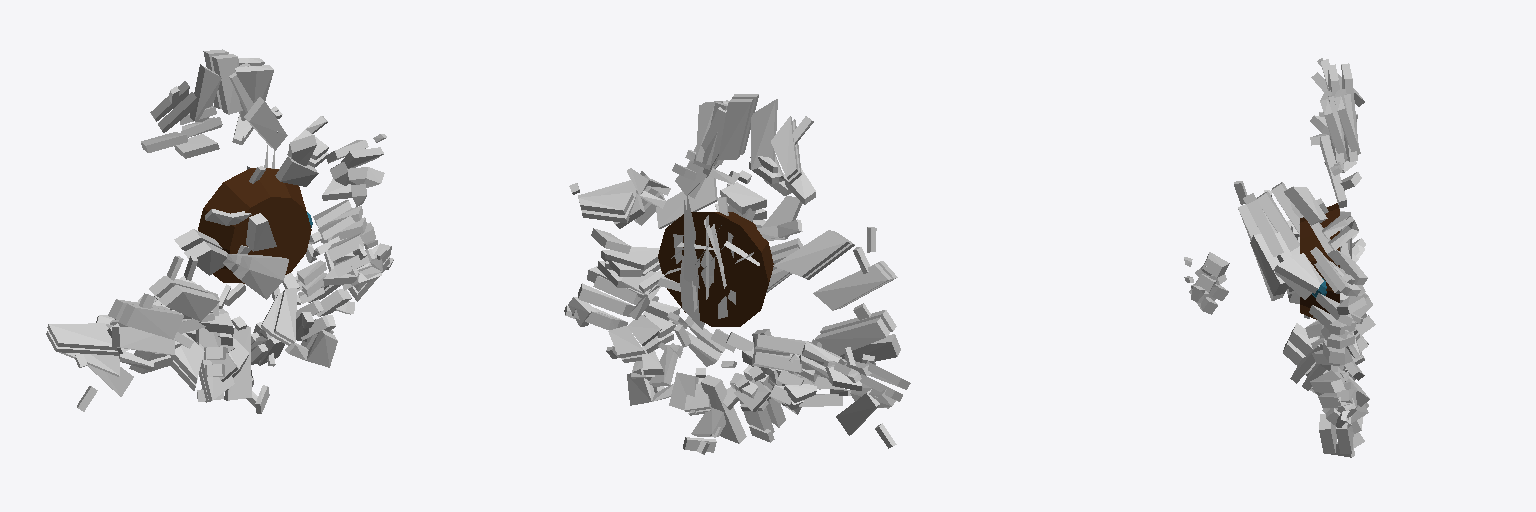
3 views of the same model, side by side, from view 1: azimuth 30°, elevation 25°; view 2: azimuth 150°, elevation 25°; view 3: azimuth 270°, elevation 25° (orthographic).
Visible parts, largest first — view 1: Cone_Cone_cover, Cone.001_Cone.001_cover, Cylinder_Cylinder_Material.001; view 2: Cone_Cone_cover, Cone.001_Cone.001_cover, Cylinder_Cylinder_Material.001, Plane_Plane_Material.003; view 3: Cone_Cone_cover, Cone.001_Cone.001_cover, Cylinder_Cylinder_Material.001.
Boxes of the visible parts, x1=… form: Cone_Cone_cover: x1=107, y1=135, x2=393, y2=413; Cone.001_Cone.001_cover: x1=46, y1=49, x2=386, y2=411; Cylinder_Cylinder_Material.001: x1=198, y1=168, x2=311, y2=283; Cone_Cone_cover: x1=564, y1=145, x2=900, y2=454; Cone.001_Cone.001_cover: x1=569, y1=94, x2=910, y2=448; Cylinder_Cylinder_Material.001: x1=658, y1=212, x2=773, y2=326; Plane_Plane_Material.003: x1=665, y1=195, x2=759, y2=329; Cone_Cone_cover: x1=1184, y1=182, x2=1375, y2=457; Cone.001_Cone.001_cover: x1=1191, y1=58, x2=1368, y2=407; Cylinder_Cylinder_Material.001: x1=1300, y1=203, x2=1339, y2=319.
Size of the model in its own units: 3.42 by 3.53 by 1.67.
Materials: 4 (1 with a texture image).